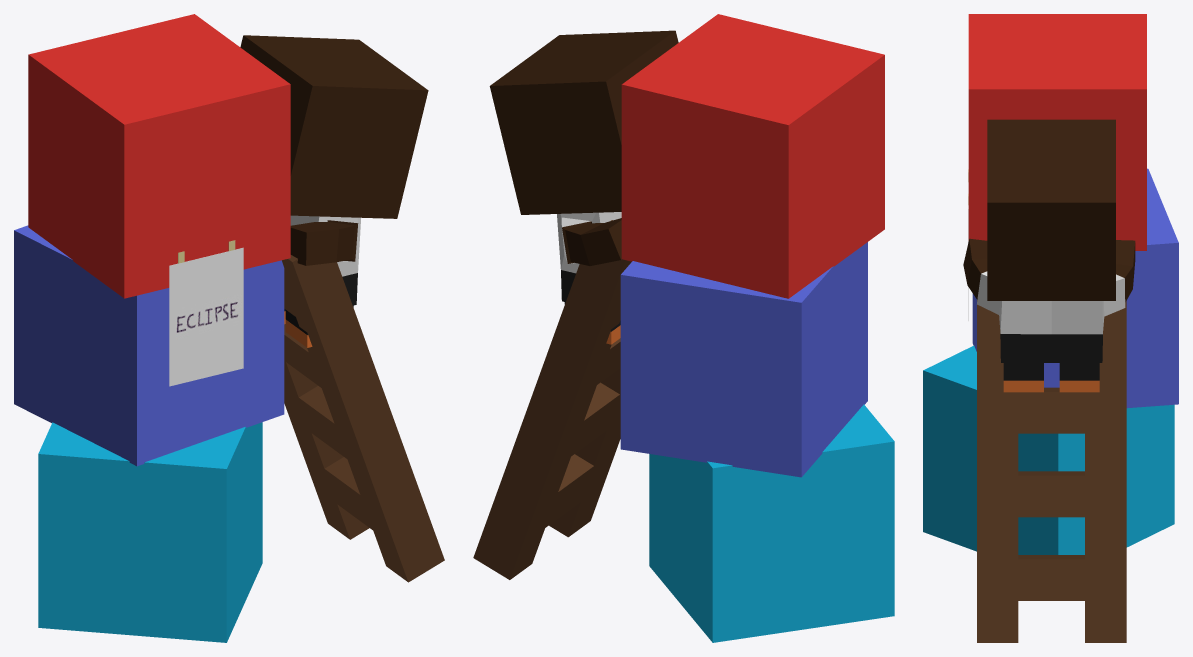
File: Eclipse Blocks.gltf
3 renders of one model, left to right at view 1: azimuth 30°, elevation 25°; view 2: azimuth 150°, elevation 25°; view 3: azimuth 270°, elevation 25°, orthographic. The views are drawn at different scales.
Parts seen in each view (by area): view 1: Pink Cube, Violet Cube, Yellow Cube, Cube, Cube.003, Java Paper.001; view 2: Pink Cube, Yellow Cube, Violet Cube, Cube, Cube.003; view 3: Cube, Cube.003, Pink Cube, Violet Cube, Yellow Cube.
Boxes of the visible parts, bbox=[...] form: Pink Cube: bbox=[28, 14, 290, 298]; Violet Cube: bbox=[38, 422, 262, 642]; Yellow Cube: bbox=[14, 225, 284, 466]; Cube: bbox=[240, 35, 428, 347]; Cube.003: bbox=[282, 255, 444, 582]; Java Paper.001: bbox=[169, 247, 243, 386]; Pink Cube: bbox=[621, 14, 884, 298]; Yellow Cube: bbox=[620, 242, 867, 477]; Violet Cube: bbox=[649, 404, 894, 642]; Cube: bbox=[489, 30, 678, 344]; Cube.003: bbox=[473, 220, 631, 579]; Cube: bbox=[963, 119, 1135, 392]; Cube.003: bbox=[977, 300, 1126, 642]; Pink Cube: bbox=[968, 14, 1146, 250]; Violet Cube: bbox=[923, 345, 1174, 554]; Yellow Cube: bbox=[972, 168, 1178, 408].
Bounding box in the file's own units: 2.65 × 3.6 × 1.69.
11 materials, 1 textured.
